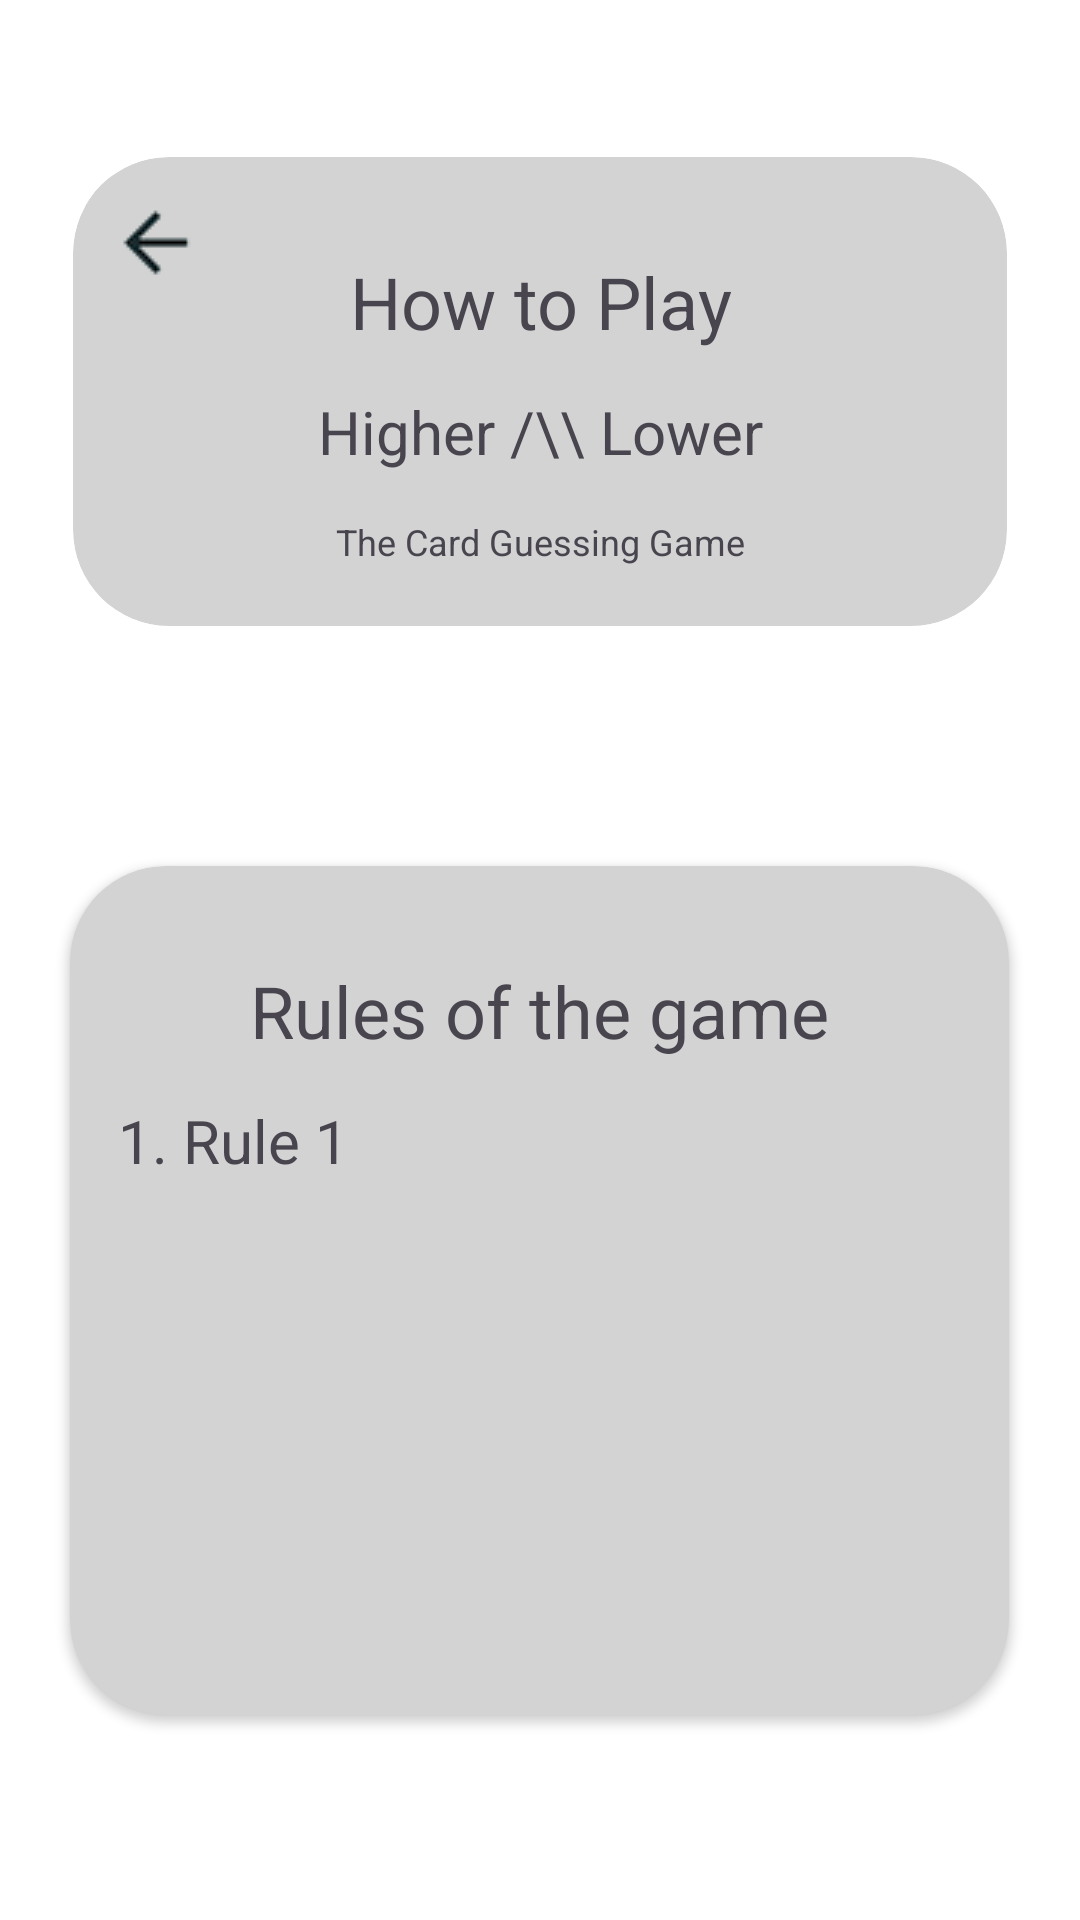

Named icons in this screenshot (1080w x 1920h) and their centers, (x=x, y=y):
back arrow: (x=139, y=223)
